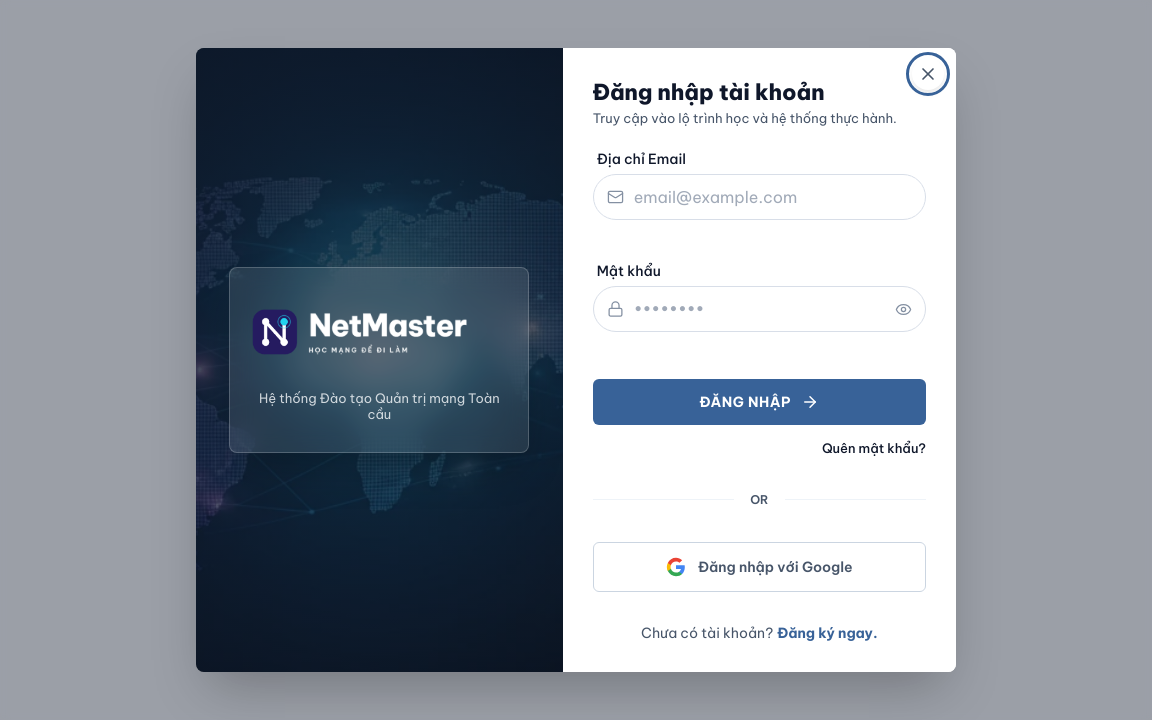
shows the existing backend error and clears it when editing a credential
Type "member@example.com" into the field labelled "Địa chỉ Email".
click(759, 197); type("member@example.com")  # box [594, 175, 925, 219]
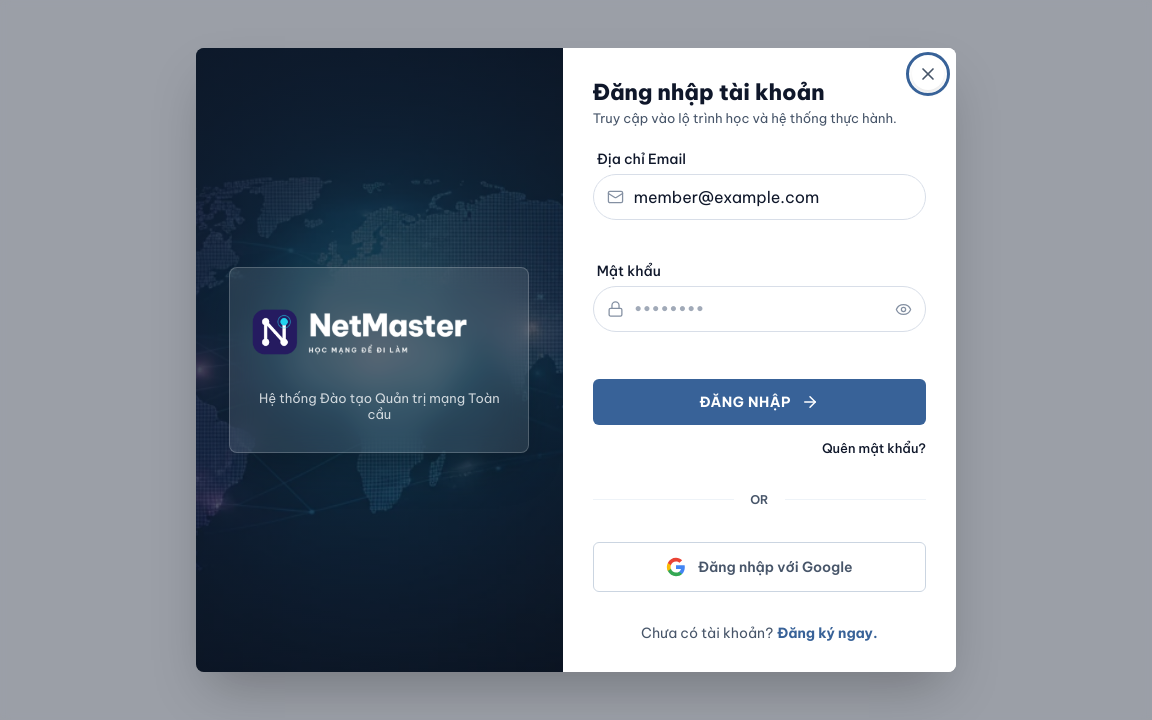
Type " x " into the password field labelled "Mật khẩu".
click(759, 309); type(" x ")  # box [594, 287, 925, 331]
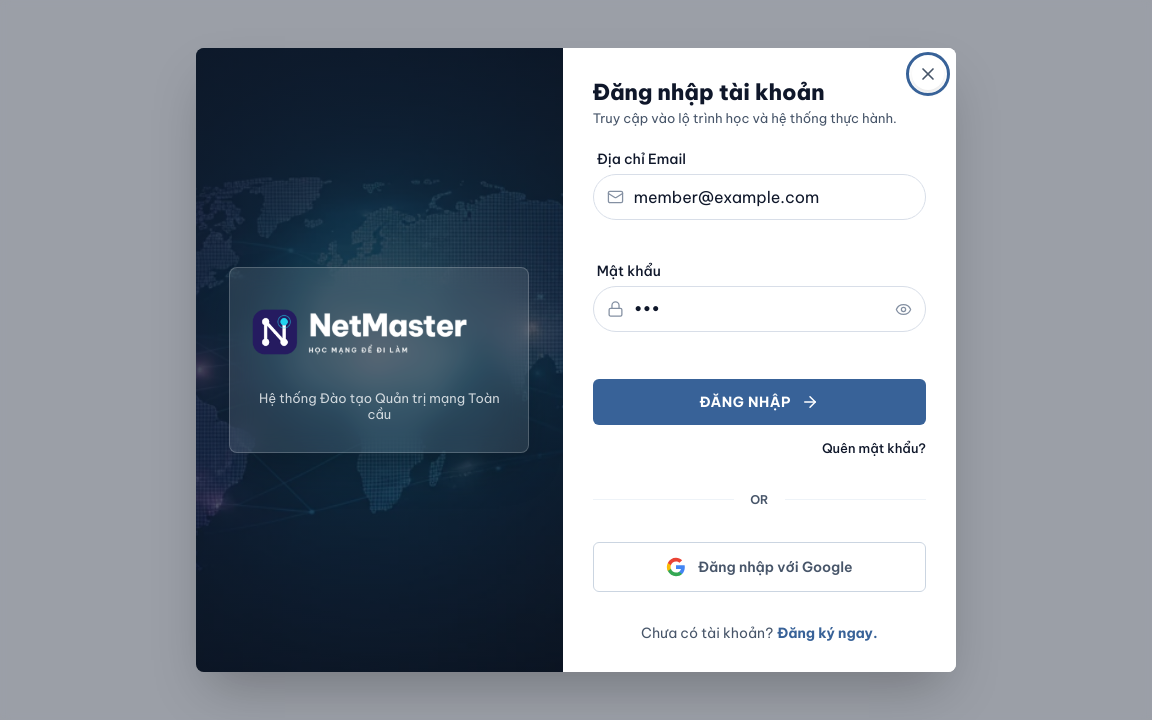
Click the button "ĐĂNG NHẬP".
click(759, 402)  # box [593, 379, 926, 425]
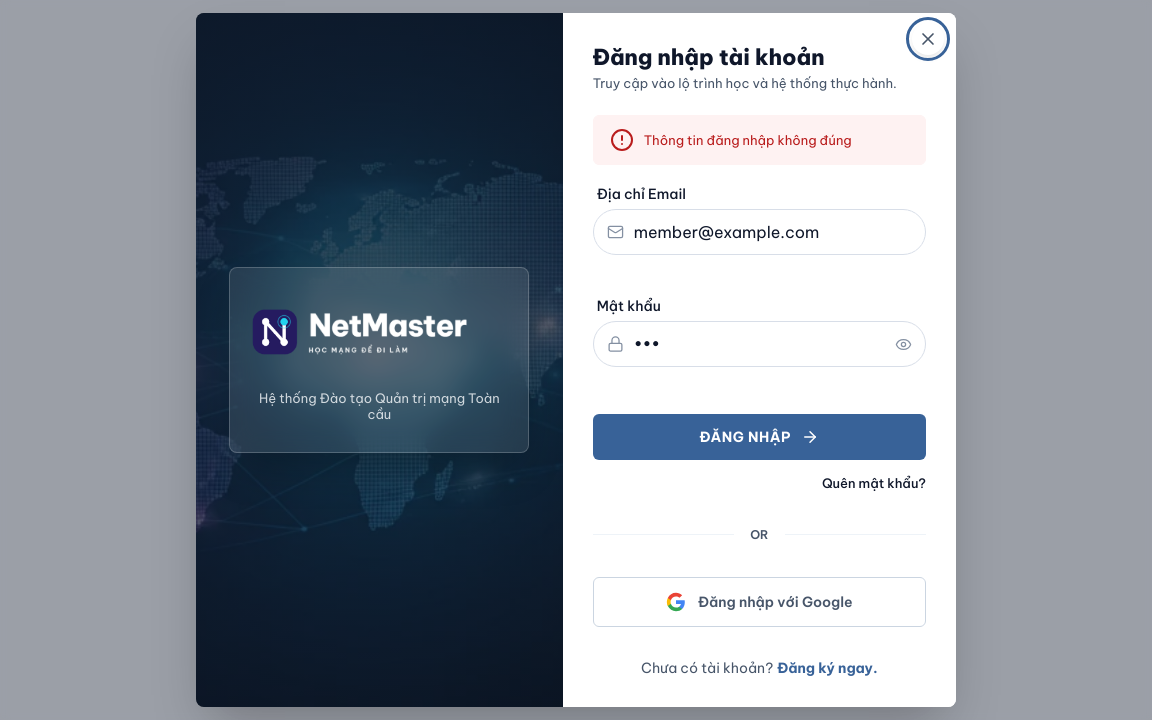
Now the text "Thông tin đăng nhập không đúng" is shown, box [593, 115, 926, 165]
Type "edited" into the password field labelled "Mật khẩu".
click(759, 344); type("edited")  # box [594, 322, 925, 366]
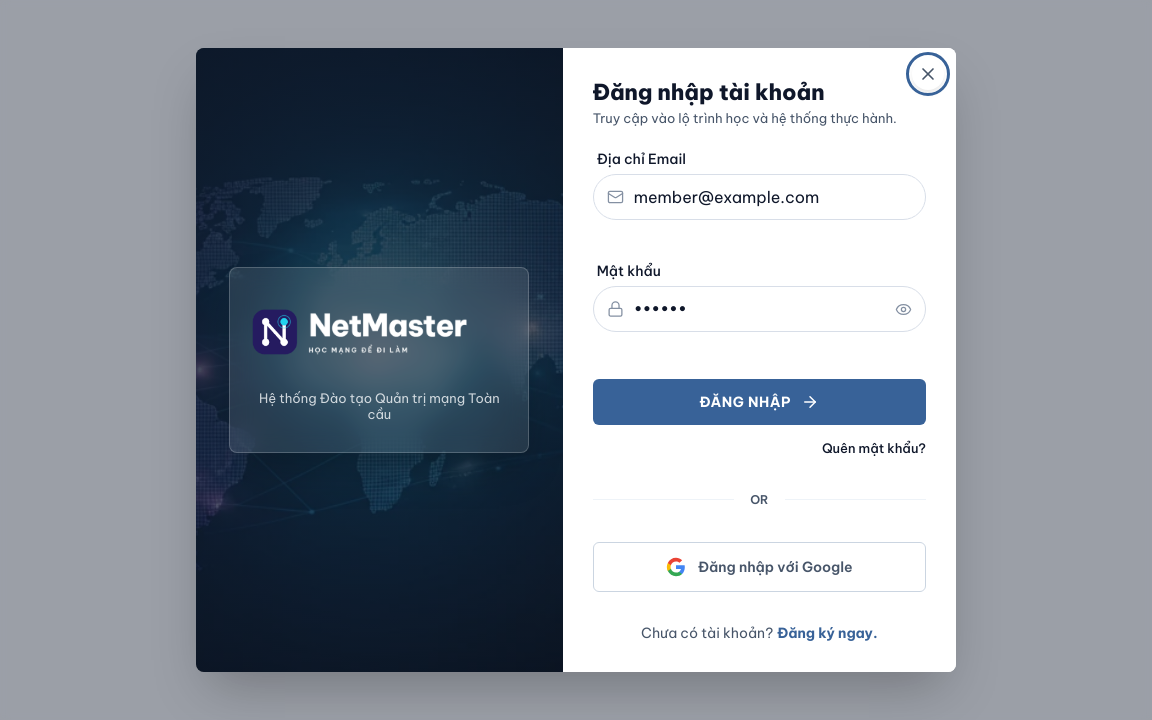
Now the text "Thông tin đăng nhập không đúng" is gone
